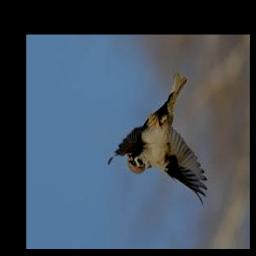Sparrow: (107, 72, 206, 206)
